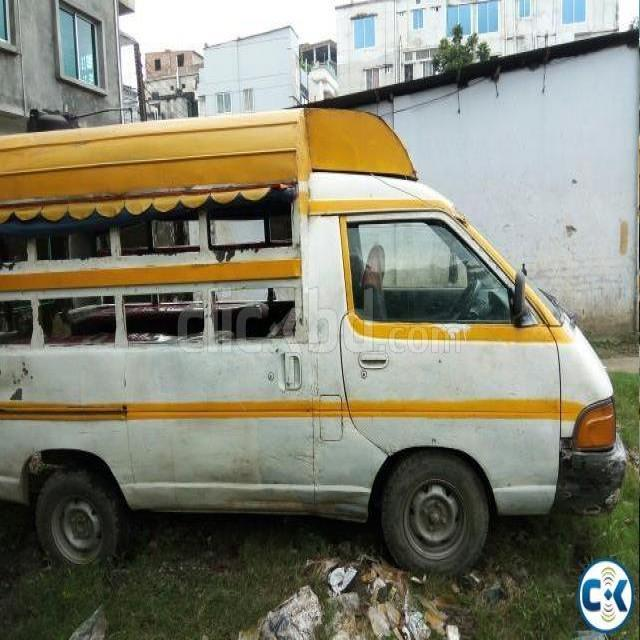Leguna: (1, 58, 640, 623)
